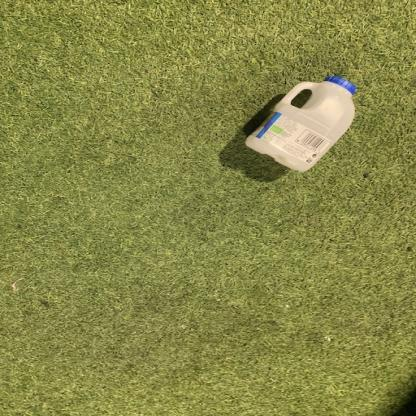trash: (240, 73, 362, 178)
